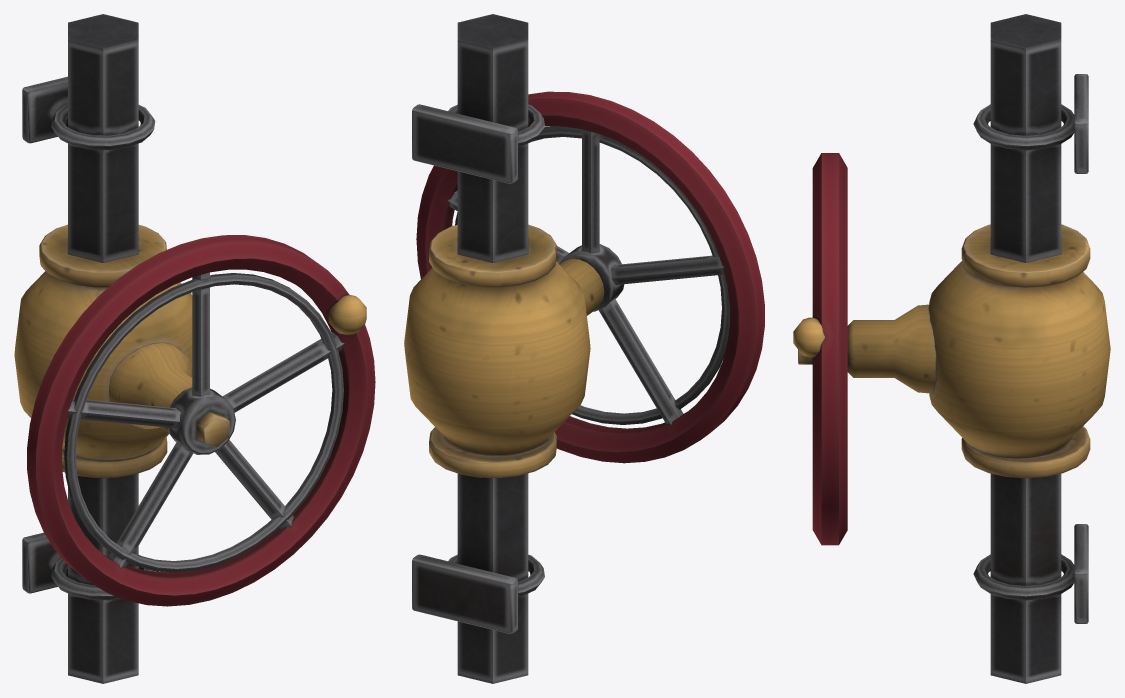
File: ValveWheel.fbx
3 renders of one model, left to right at view 1: azimuth 30°, elevation 25°; view 2: azimuth 150°, elevation 25°; view 3: azimuth 270°, elevation 25°, orthographic.
Parts seen in each view (by area): view 1: ValveWheel_Wheel, ValveWheel_Main; view 2: ValveWheel_Main, ValveWheel_Wheel; view 3: ValveWheel_Main, ValveWheel_Wheel.
Part boxes in pixels (<box>): ValveWheel_Wheel: <box>27,235,375,606</box>; ValveWheel_Main: <box>14,14,192,683</box>; ValveWheel_Main: <box>404,14,604,683</box>; ValveWheel_Wheel: <box>416,91,764,463</box>; ValveWheel_Main: <box>847,14,1110,683</box>; ValveWheel_Wheel: <box>793,153,847,545</box>.
Bounding box in the file's own units: 134 × 240 × 109.
